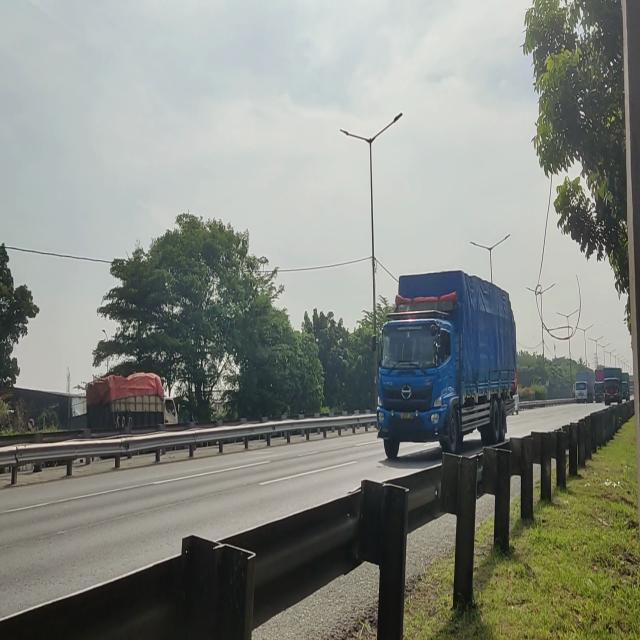Golongan III: (375, 267, 519, 464)
